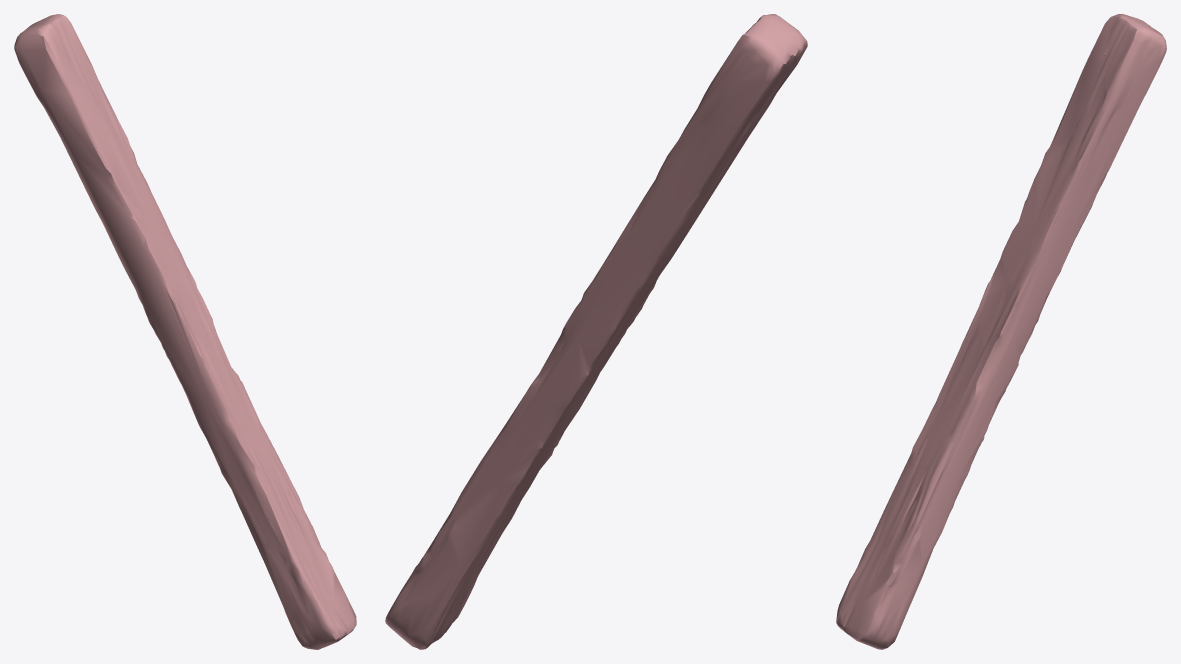
The model's file is fma55620_fj2744.glb.
The picture shows the model from 3 angles, left to right: view 1: azimuth 30°, elevation 25°; view 2: azimuth 210°, elevation 25°; view 3: azimuth 270°, elevation 25°; orthographic projection. The views are drawn at different scales.
Visible parts, largest first — view 1: FMA55620_FJ2744; view 2: FMA55620_FJ2744; view 3: FMA55620_FJ2744.
Boxes of the visible parts, x1,y1,x2,y2 form: FMA55620_FJ2744: (14, 14, 356, 649); FMA55620_FJ2744: (385, 14, 807, 649); FMA55620_FJ2744: (836, 14, 1166, 649).
Size of the model in its own units: 0.00833 by 0.022 by 0.0118.
